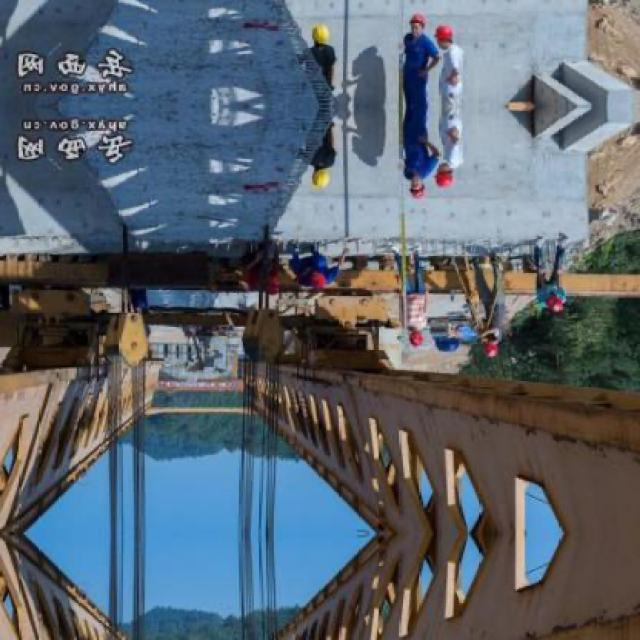con casco: (461, 326, 503, 372), (538, 272, 576, 316), (396, 159, 432, 202), (435, 152, 472, 186), (298, 155, 332, 190), (404, 317, 432, 352)
